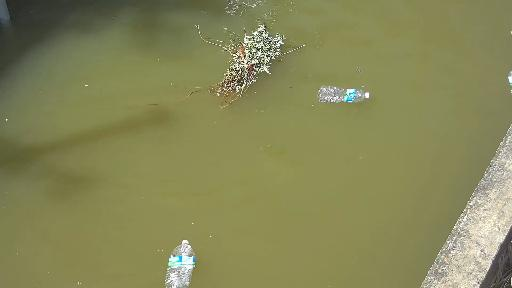plastic: (156, 238, 206, 288), (306, 83, 392, 106), (500, 69, 512, 94)
twig: (183, 0, 293, 117)
